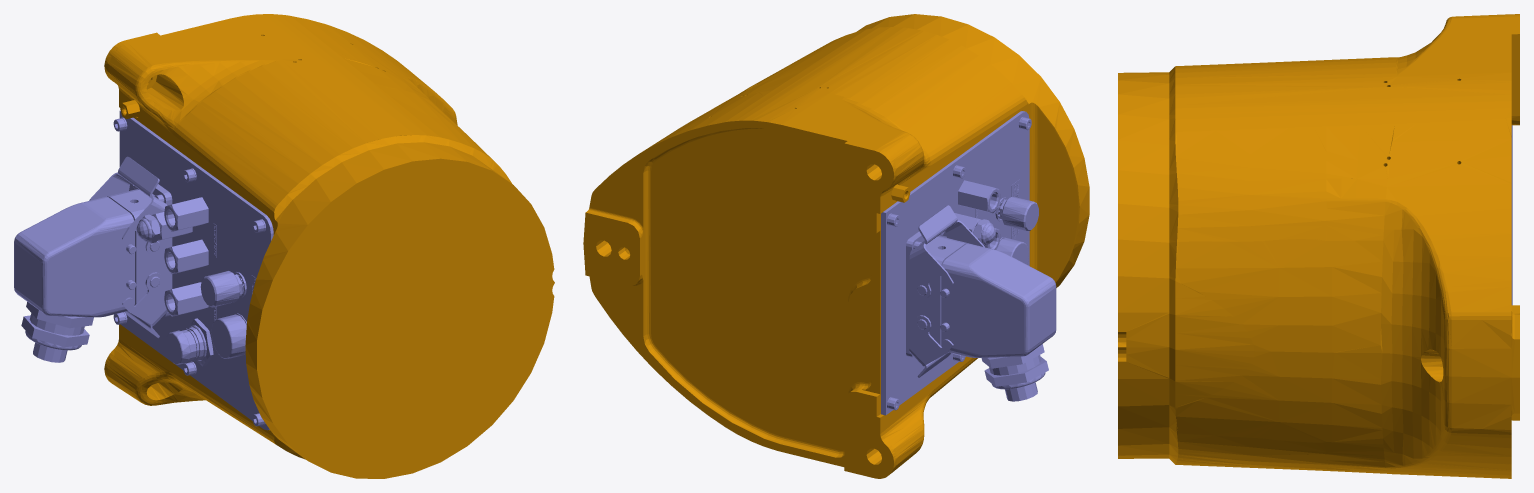
3 views of the same model, side by side, from view 1: azimuth 30°, elevation 25°; view 2: azimuth 150°, elevation 25°; view 3: azimuth 270°, elevation 25° (orthographic). The views are drawn at different scales.
Visible parts, largest first — view 1: node; view 2: node; view 3: node.
Part boxes in pixels (x1,y1,x2,y2): node: [14, 14, 554, 478]; node: [583, 14, 1089, 478]; node: [1118, 14, 1519, 478].
Bounding box in the file's own units: 0.3515 × 0.2604 × 0.2453.
